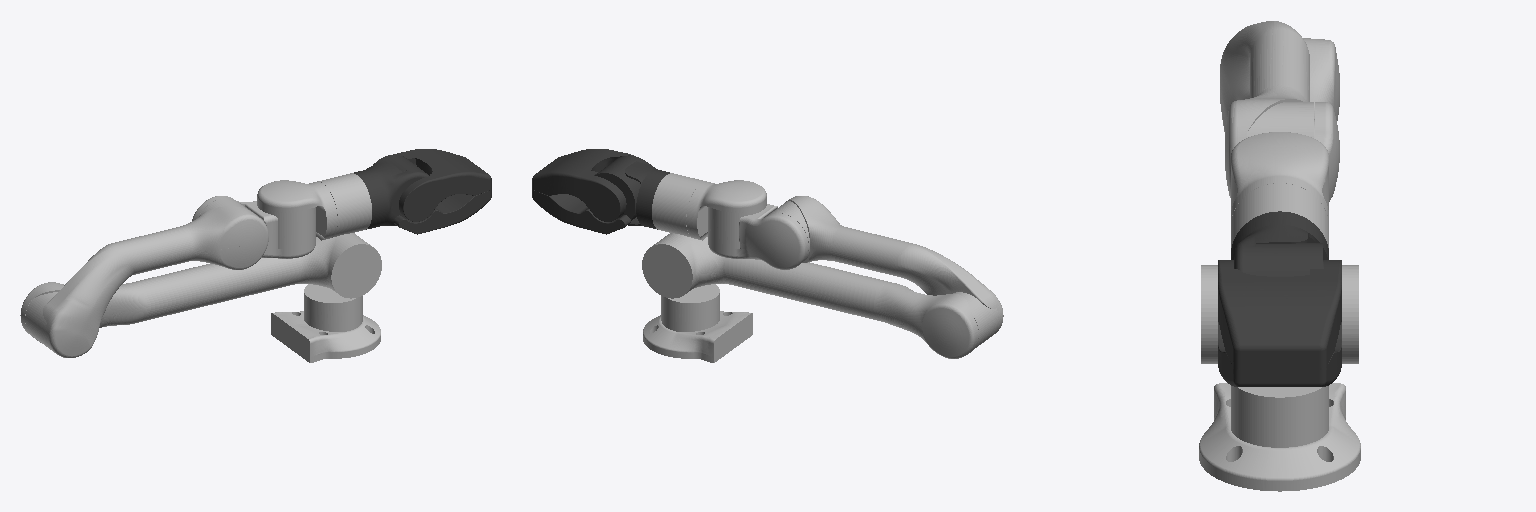
URDF robot description (z1):
<?xml version="1.0" ?>
<!-- =================================================================================== -->
<!-- |    This document was autogenerated by xacro from robot.xacro                    | -->
<!-- |    EDITING THIS FILE BY HAND IS NOT RECOMMENDED                                 | -->
<!-- =================================================================================== -->
<robot name="z1">
  <link name="link0">
    <visual>
      <origin rpy="0 0 0" xyz="0 0 0"/>
      <geometry>
        <mesh filename="package://robots/meshes/visual/z1_link0.obj" scale="1 1 1"/>
      </geometry>
      <material name="silver">
        <color rgba="0.75 0.75 0.75 1."/>
      </material>
    </visual>
    <collision>
      <origin rpy="0 0 0" xyz="0 0 0"/>
      <geometry>
        <mesh filename="package://robots/meshes/collision/z1_link0.STL" scale="1 1 1"/>
      </geometry>
    </collision>
    <inertial>
      <origin rpy="0 0 0" xyz="-0.00334984 -0.00013615 0.02495843"/>
      <mass value="0.47247481"/>
      <inertia ixx="0.00037937" ixy="-3.5e-07" ixz="-1.037e-05" iyy="0.00041521" iyz="-9.9e-07" izz="0.00053066"/>
    </inertial>
  </link>

  <joint name="joint1" type="revolute">
    <origin rpy="0 0 0" xyz="0 0 0.0585"/>
    <parent link="link0"/>
    <child link="link1"/>
    <axis xyz="0 0 1"/>
    <dynamics damping="1.0" friction="1.0"/>
    <limit effort="30.0" lower="-2.6179938779914944" upper="2.6179938779914944" velocity="3.1415"/>
  </joint>
  
  <link name="link1">
    <visual>
      <origin rpy="0 0 0" xyz="0 0 0"/>
      <geometry>
        <mesh filename="package://robots/meshes/visual/z1_link1.obj" scale="1 1 1"/>
      </geometry>
      <material name="silver">
        <color rgba="0.75 0.75 0.75 1."/>
      </material>
    </visual>
    <collision>
      <origin rpy="0 0 0" xyz="0 0 0"/>
      <geometry>
        <mesh filename="package://robots/meshes/collision/z1_link1.STL" scale="1 1 1"/>
      </geometry>
    </collision>
    <inertial>
      <origin rpy="0 0 0" xyz="2.47e-06 -0.00025198 0.02317169"/>
      <mass value="0.67332551"/>
      <inertia ixx="0.00128328" ixy="-6e-08" ixz="-4e-07" iyy="0.00071931" iyz="5e-07" izz="0.00083936"/>
    </inertial>
  </link>
  
  <joint name="joint2" type="revolute">
    <origin rpy="0 0 0" xyz="0 0 0.045"/>
    <parent link="link1"/>
    <child link="link2"/>
    <axis xyz="0 1 0"/>
    <dynamics damping="2.0" friction="2.0"/>
    <limit effort="60.0" lower="0.0" upper="2.9670597283903604" velocity="3.1415"/>
  </joint>
  
  <link name="link2">
    <visual>
      <origin rpy="0 0 0" xyz="0 0 0"/>
      <geometry>
        <mesh filename="package://robots/meshes/visual/z1_link2.obj" scale="1 1 1"/>
      </geometry>
      <material name="silver">
        <color rgba="0.75 0.75 0.75 1."/>
      </material>
    </visual>
    <collision>
      <origin rpy="0 0 0" xyz="0 0 0"/>
      <geometry>
        <mesh filename="package://robots/meshes/collision/z1_link2.STL" scale="1 1 1"/>
      </geometry>
    </collision>
    <inertial>
      <origin rpy="0 0 0" xyz="-0.11012601 0.00240029 0.00158266"/>
      <mass value="1.19132258"/>
      <inertia ixx="0.00102138" ixy="0.00062358" ixz="5.13e-06" iyy="0.02429457" iyz="-2.1e-06" izz="0.02466114"/>
    </inertial>
  </link>
  
  <joint name="joint3" type="revolute">
    <origin rpy="0 0 0" xyz="-0.35 0 0"/>
    <parent link="link2"/>
    <child link="link3"/>
    <axis xyz="0 1 0"/>
    <dynamics damping="1.0" friction="1.0"/>
    <limit effort="30.0" lower="-2.8797932657906435" upper="0.0" velocity="3.1415"/>
  </joint>
  
  <link name="link3">
    <visual>
      <origin rpy="0 0 0" xyz="0 0 0"/>
      <geometry>
        <mesh filename="package://robots/meshes/visual/z1_link3.obj" scale="1 1 1"/>
      </geometry>
      <material name="silver">
        <color rgba="0.75 0.75 0.75 1."/>
      </material>
    </visual>
    <collision>
      <origin rpy="0 0 0" xyz="0 0 0"/>
      <geometry>
        <mesh filename="package://robots/meshes/collision/z1_link3.STL" scale="1 1 1"/>
      </geometry>
    </collision>
    <inertial>
      <origin rpy="0 0 0" xyz="0.10609208 -0.00541815 0.03476383"/>
      <mass value="0.83940874"/>
      <inertia ixx="0.00108061" ixy="-8.669e-05" ixz="-0.00208102" iyy="0.00954238" iyz="-1.332e-05" izz="0.00886621"/>
    </inertial>
  </link>
  
  <joint name="joint4" type="revolute">
    <origin rpy="0 0 0" xyz="0.218 0 0.057"/>
    <parent link="link3"/>
    <child link="link4"/>
    <axis xyz="0 1 0"/>
    <dynamics damping="1.0" friction="1.0"/>
    <limit effort="30.0" lower="-1.5184364492350666" upper="1.5184364492350666" velocity="3.1415"/>
  </joint>
  
  <link name="link4">
    <visual>
      <origin rpy="0 0 0" xyz="0 0 0"/>
      <geometry>
        <mesh filename="package://robots/meshes/visual/z1_link4.obj" scale="1 1 1"/>
      </geometry>
      <material name="silver">
        <color rgba="0.75 0.75 0.75 1."/>
      </material>
    </visual>
    <collision>
      <origin rpy="0 0 0" xyz="0 0 0"/>
      <geometry>
        <mesh filename="package://robots/meshes/collision/z1_link4.STL" scale="1 1 1"/>
      </geometry>
    </collision>
    <inertial>
      <origin rpy="0 0 0" xyz="0.04366681 0.00364738 -0.00170192"/>
      <mass value="0.56404563"/>
      <inertia ixx="0.00031576" ixy="8.13e-05" ixz="4.091e-05" iyy="0.00092996" iyz="-5.96e-06" izz="0.00097912"/>
    </inertial>
  </link>
  
  <joint name="joint5" type="revolute">
    <origin rpy="0 0 0" xyz="0.07 0.0 0.0"/>
    <parent link="link4"/>
    <child link="link5"/>
    <axis xyz="0 0 1"/>
    <dynamics damping="1.0" friction="1.0"/>
    <limit effort="30.0" lower="-1.3439035240356338" upper="1.3439035240356338" velocity="3.1415"/>
  </joint>
  
  <link name="link5">
    <visual>
      <origin rpy="0 0 0" xyz="0 0 0"/>
      <geometry>
        <mesh filename="package://robots/meshes/visual/z1_link5.obj" scale="1 1 1"/>
      </geometry>
      <material name="silver">
        <color rgba="0.75 0.75 0.75 1."/>
      </material>
    </visual>
    <collision>
      <origin rpy="0 0 0" xyz="0 0 0"/>
      <geometry>
        <mesh filename="package://robots/meshes/collision/z1_link5.STL" scale="1 1 1"/>
      </geometry>
    </collision>
    <inertial>
      <origin rpy="0 0 0" xyz="0.03121533 0.0 0.00646316"/>
      <mass value="0.38938492"/>
      <inertia ixx="0.00017605" ixy="4e-07" ixz="5.689e-05" iyy="0.00055896" iyz="-1.3e-07" izz="0.0005386"/>
    </inertial>
  </link>

  <joint name="joint6" type="revolute">
    <origin rpy="0 0 0" xyz="0.0492 0.0 0.0"/>
    <parent link="link5"/>
    <child link="link6"/>
    <axis xyz="1 0 0"/>
    <dynamics damping="1.0" friction="1.0"/>
    <limit effort="30.0" lower="-2.792526803190927" upper="2.792526803190927" velocity="3.1415"/>
  </joint>
  
  <link name="link6">
    <visual>
      <origin rpy="0 0 0" xyz="0 0 0"/>
      <geometry>
        <mesh filename="package://robots/meshes/visual/z1_link6.obj" scale="1 1 1"/>
      </geometry>
      <material name="silver">
        <color rgba="0.75 0.75 0.75 1."/>
      </material>
    </visual>
    <collision>
      <!-- <geometry>
        <cylinder length="0.051" radius="0.0325"/>
      </geometry>
      <origin rpy="0 1.5707963267948966 0" xyz="0.0255 0 0"/> -->
      <origin rpy="0 0 0" xyz="0 0 0"/>
      <geometry>
        <mesh filename="package://robots/meshes/collision/z1_link6.STL" scale="1 1 1"/>
      </geometry>
    </collision>
    <inertial>
      <origin rpy="0 0 0" xyz="0.0241569 -0.00017355 -0.00143876"/>
      <mass value="0.28875807"/>
      <inertia ixx="0.00018328" ixy="1.22e-06" ixz="5.4e-07" iyy="0.0001475" iyz="8e-08" izz="0.0001468"/>
    </inertial>
  </link>

  <joint name="gripperStator" type="fixed">
    <origin rpy="0 0 0" xyz="0.051 0.0 0.0"/>
    <parent link="link6"/>
    <child link="gripperStator"/>
  </joint>
  
  <link name="gripperStator">
    <visual>
      <origin rpy="0 0 0" xyz="0 0 0"/>
      <geometry>
        <mesh filename="package://robots/meshes/visual/z1_gripper_stator.obj" scale="1 1 1"/>
      </geometry>
      <material name="gray">
        <color rgba="0.3 0.3 0.3 1."/>
      </material>
    </visual>
    <collision>
      <geometry>
        <mesh filename="package://robots/meshes/collision/z1_gripper_stator.STL" scale="1 1 1"/>
      </geometry>
    </collision>
    <inertial>
      <origin rpy="0 0 0" xyz="0.04764427 -0.00035819 -0.00249162"/>
      <mass value="0.52603655"/>
      <inertia ixx="0.00038683" ixy="-3.59e-06" ixz="7.662e-05" iyy="0.00068614" iyz="2.09e-06" izz="0.00066293"/>
    </inertial>
  </link>
  
  <joint name="jointGripper" type="revolute">
    <origin rpy="0 0 0" xyz="0.049 0.0 0"/>
    <parent link="gripperStator"/>
    <child link="gripperMover"/>
    <axis xyz="0 1 0"/>
    <dynamics damping="1.0" friction="1.0"/>
    <limit effort="30.0" lower="-1.5707963267948966" upper="0.0" velocity="3.1415"/>
  </joint>
  
  <link name="gripperMover">
    <visual>
      <origin rpy="0 0 0" xyz="0 0 0"/>
      <geometry>
        <mesh filename="package://robots/meshes/visual/z1_gripper_mover.obj" scale="1 1 1"/>
      </geometry>
      <material name="gray">
        <color rgba="0.3 0.3 0.3 1."/>
      </material>
    </visual>
    <collision>
      <geometry>
        <mesh filename="package://robots/meshes/collision/z1_gripper_mover.STL" scale="1 1 1"/>
      </geometry>
    </collision>
    <inertial>
      <origin rpy="0 0 0" xyz="0.01320633 0.00476708 0.00380534"/>
      <mass value="0.27621302"/>
      <inertia ixx="0.00017716" ixy="1.683e-05" ixz="-1.786e-05" iyy="0.00026787" iyz="2.62e-06" izz="0.00035728"/>
    </inertial>
  </link>

  <link name="tcp_link">
    <!-- <visual>
      <origin rpy="0 0 0" xyz="0 0 0"/>
      <geometry>
        <sphere radius="0.01"/>
      </geometry>
      <material name="red">
        <color rgba="1. 0. 0. 1."/>
      </material>
    </visual> -->
    <inertial>
        <origin rpy="0 0 0" xyz="0 0 0"/>
        <mass value="1e-10"/>
        <inertia ixx="1e-10" ixy="0" ixz="0" iyy="1e-10" iyz="0" izz="1e-10"/>
    </inertial>
  </link>

  <joint name="tcp_joint" type="fixed">
    <origin rpy="0 0 0" xyz="0.19 0.0 -0.01"/>
    <parent link="link6"/>
    <child link="tcp_link"/>
  </joint>
</robot>

--- Facts derived from the render (not from the file) ---
Views: 3 orthographic renders of the robot side by side, from view 1: azimuth 30°, elevation 25°; view 2: azimuth 150°, elevation 25°; view 3: azimuth 270°, elevation 25°.
Robot: z1 — 10 links, 9 joints (7 revolute, 2 fixed); root link link0; default pose: all joints at 0.
Visible links, largest first — view 1: link3, link2, link0, gripperStator, gripperMover, link4, link5, link6; view 2: link2, link3, link0, link4, gripperStator, gripperMover, link5, link6; view 3: link0, gripperMover, link3, gripperStator, link2, link5, link6, link4.
Link boxes in pixels (box(x1,y1,x2,y2)): link3: box(25, 198, 268, 357); link2: box(20, 233, 381, 342); link0: box(271, 284, 380, 362); gripperStator: box(354, 155, 491, 234); gripperMover: box(393, 149, 491, 221); link4: box(192, 196, 315, 258); link5: box(257, 180, 337, 240); link6: box(317, 173, 371, 237); link2: box(642, 233, 978, 358); link3: box(769, 196, 1003, 349); link0: box(643, 284, 752, 362); link4: box(708, 202, 808, 269); gripperStator: box(532, 155, 669, 234); gripperMover: box(532, 149, 633, 221); link5: box(686, 180, 766, 240); link6: box(652, 173, 706, 237); link0: box(1199, 383, 1360, 491); gripperMover: box(1218, 260, 1341, 368); link3: box(1220, 21, 1313, 197); gripperStator: box(1218, 211, 1341, 386); link2: box(1201, 38, 1358, 363); link5: box(1231, 132, 1328, 218); link6: box(1231, 183, 1328, 247); link4: box(1231, 102, 1339, 209).
Size in the robot's own frame: 0.5697 by 0.1065 by 0.198 metres.
Meshes: 9 distinct files referenced, 8 mesh visuals loaded (8 OBJ); not drawn: 1 (reference not matched to a file when rendering).